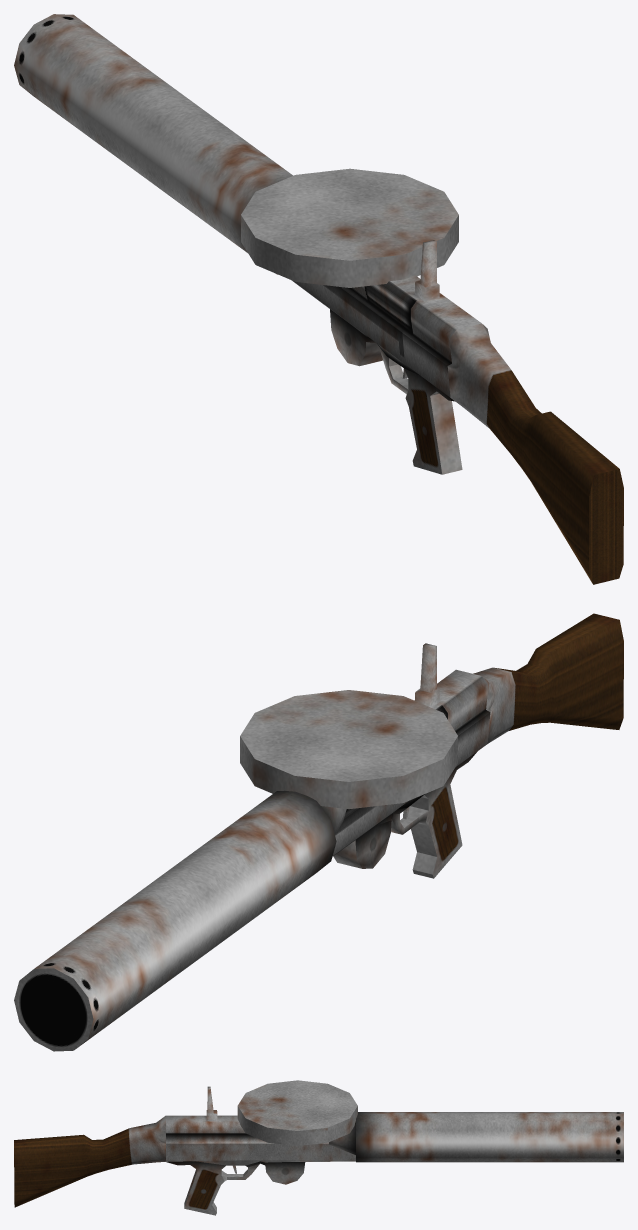
File: machinegun.fbx
3 renders of one model, top to bottom at view 1: azimuth 30°, elevation 25°; view 2: azimuth 150°, elevation 25°; view 3: azimuth 270°, elevation 25°, orthographic. The views are drawn at different scales.
Visible parts, largest first — view 1: polySurface19; view 2: polySurface19; view 3: polySurface19.
Boxes of the visible parts, x1,y1,x2,y2 form: polySurface19: (14,14,623,584); polySurface19: (14,613,623,1051); polySurface19: (14,1080,623,1215).
Bounding box in the file's own units: 10.21 × 11.69 × 51.8.
Materials: 1 (1 with a texture image).
